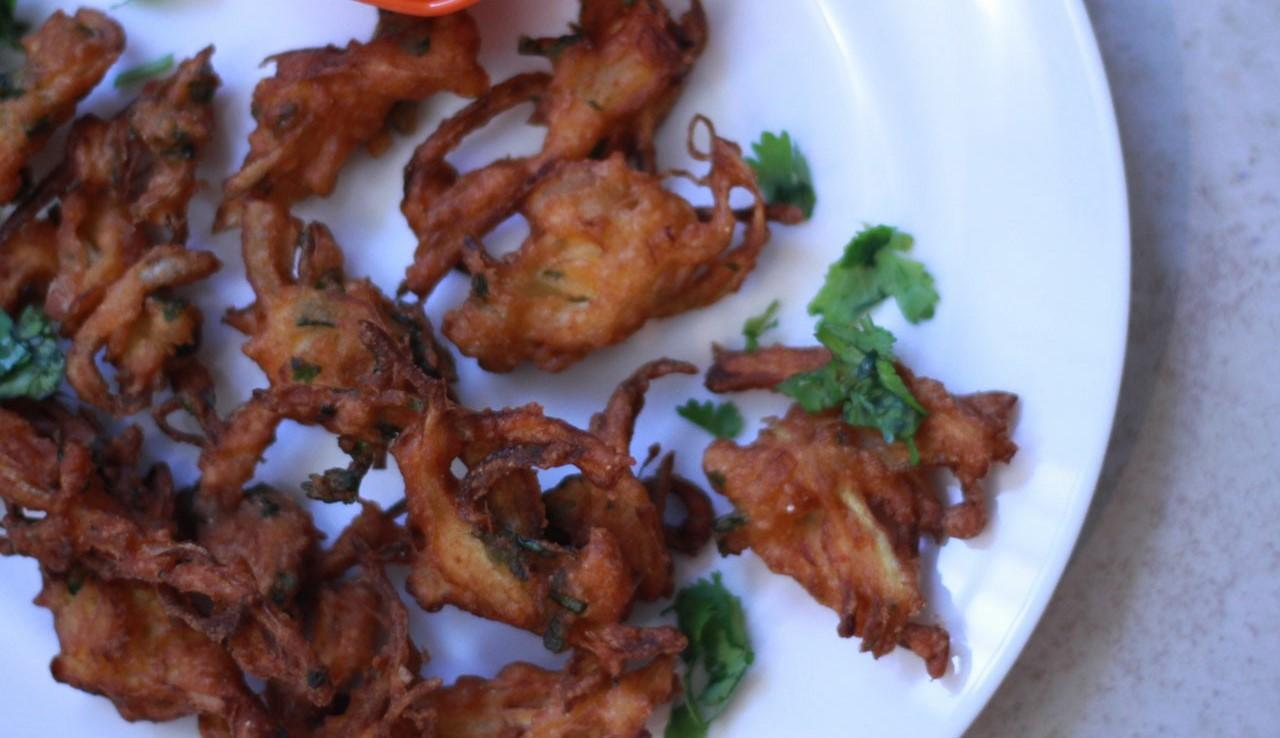OnionPakoda: (7, 0, 1024, 738)
